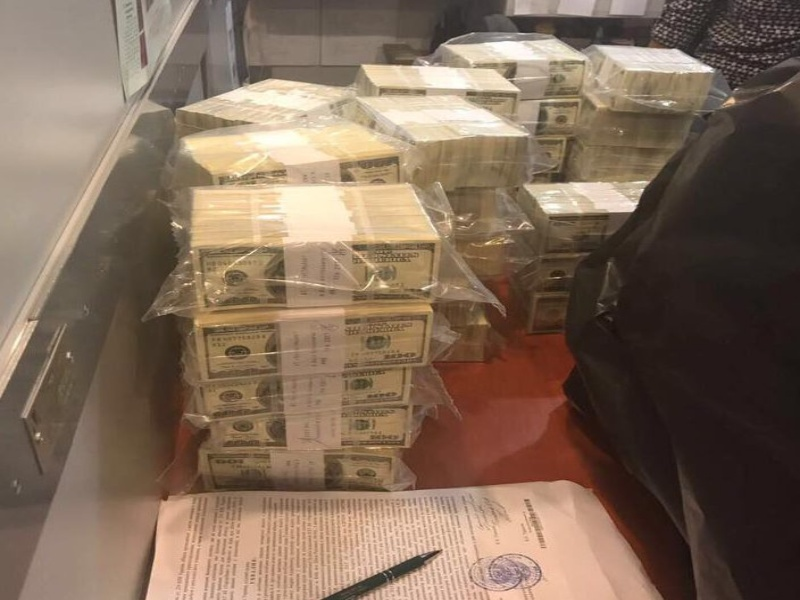cash: (360, 96, 529, 359), (187, 184, 440, 308), (193, 368, 420, 489), (512, 180, 648, 333), (441, 37, 586, 180), (566, 43, 716, 178), (193, 303, 432, 375), (182, 123, 403, 185), (177, 78, 366, 134), (361, 63, 521, 116)
